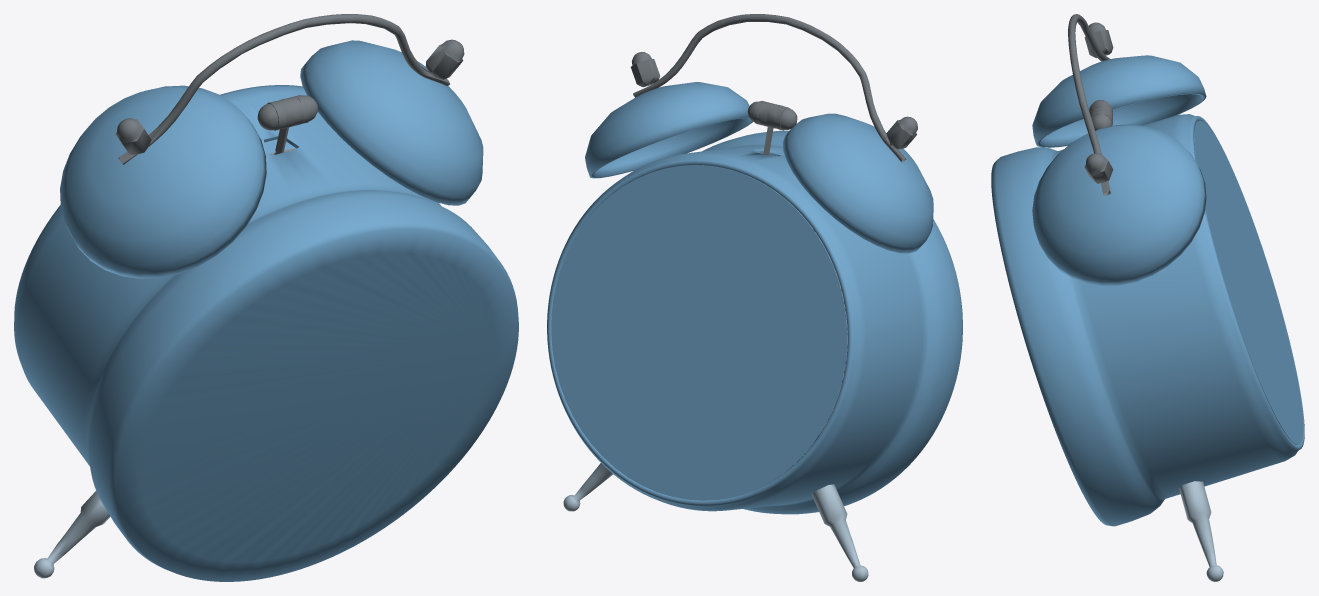
The model's file is AlarmClock_MPI01_fbx.fbx.
3 renders of one model, left to right at view 1: azimuth 30°, elevation 25°; view 2: azimuth 150°, elevation 25°; view 3: azimuth 270°, elevation 25°, orthographic. The views are drawn at different scales.
Visible parts, largest first — view 1: Shell, Bells, Bar, BelTop, KlingKlong, FGet; view 2: Glass, Shell, Bells, Bar, FGet, BelTop, KlingKlong; view 3: Shell, Bells, Glass, FGet, Bar, BelTop, KlingKlong.
Boxes of the visible parts, x1,y1,x2,y2 form: Shell: [14, 85, 518, 581]; Bells: [60, 40, 483, 278]; Bar: [118, 14, 449, 164]; BelTop: [116, 39, 464, 154]; KlingKlong: [257, 95, 317, 154]; FGet: [34, 491, 110, 578]; Glass: [551, 165, 847, 500]; Shell: [547, 130, 962, 514]; Bells: [585, 82, 933, 253]; Bar: [633, 14, 906, 162]; FGet: [563, 463, 868, 581]; BelTop: [630, 52, 917, 149]; KlingKlong: [747, 101, 797, 155]; Shell: [991, 114, 1304, 526]; Bells: [1032, 55, 1206, 285]; Glass: [1194, 120, 1303, 444]; FGet: [1179, 481, 1223, 581]; Bar: [1068, 14, 1110, 195]; BelTop: [1084, 22, 1113, 183]; KlingKlong: [1089, 100, 1112, 130].
Size of what is drawn, in the model's own units: 10.81 by 14.82 by 8.76.
6 materials, 1 textured.
